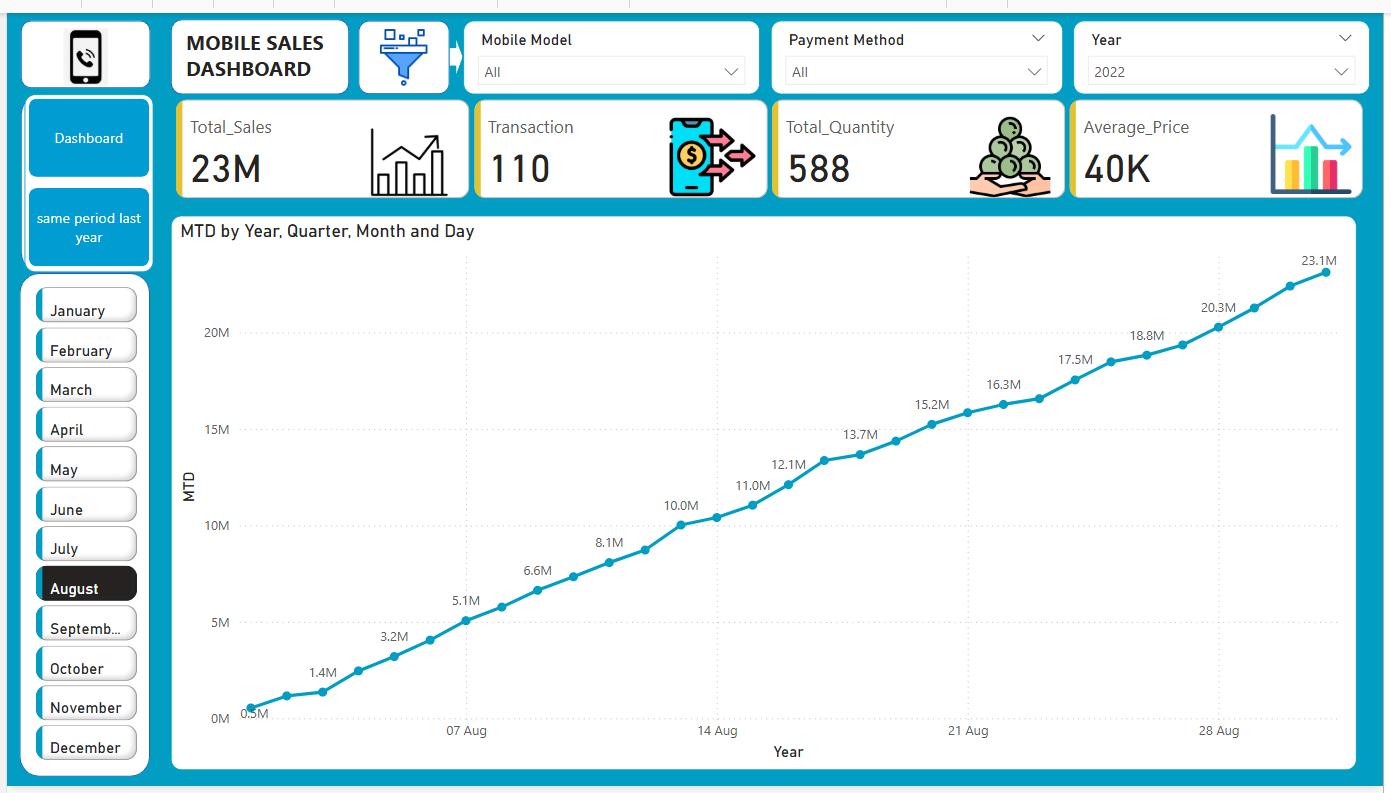

Layout of this report page (visuals, bound fields, positions):
{"tool":"powerbi","page":{"name":"MTD Report","canvas":[1280,720],"ordinal":2},"visuals":[{"type":"shape","box":[12.3,6.9,120.8,63.1],"z":0},{"type":"image","box":[37,9.6,71.4,63.1],"z":1000},{"type":"shape","box":[12.3,75.5,123.5,166],"z":2000},{"type":"cardVisual","fields":{"Data":["mobile_sales_dataset.Total_Sales","mobile_sales_dataset.Transaction","mobile_sales_dataset.Total_Quantity","mobile_sales_dataset.Average_Price"]},"box":[152.3,75.5,1115.6,102.9],"z":3000},{"type":"slicer","fields":{"Values":["mobile_sales_dataset.Mobile Model"]},"box":[424,6.9,275.8,68.6],"z":4000},{"type":"slicer","fields":{"Values":["mobile_sales_dataset.Payment Method"]},"box":[710.8,6.9,271.7,68.6],"z":5000},{"type":"slicer","fields":{"Values":["custom_calender.Date.Variation.Date Hierarchy.Year"]},"box":[992.1,6.9,275.8,68.6],"z":6000},{"type":"shape","box":[326.6,6.9,85.1,68.6],"z":7000},{"type":"image","box":[318.4,9.6,101.5,64.5],"z":8000},{"type":"shape","box":[411.7,24.7,12.3,32.9],"z":9000},{"type":"shape","box":[152.3,5.5,166,70],"z":10000},{"type":"shape","box":[11.4,241.4,121.4,468.6],"z":11000},{"type":"textbox","box":[161.9,9.6,145.5,64.5],"z":12000},{"type":"donutChart","fields":{"Category":["custom_calender.Date.Variation.Date Hierarchy.Year","custom_calender.Date.Variation.Date Hierarchy.Quarter","custom_calender.Date.Variation.Date Hierarchy.Month","custom_calender.Date.Variation.Date Hierarchy.Day"],"Y":["mobile_sales_dataset.MTD"]},"box":[152.3,188.4,1115.1,516.3],"z":14000},{"type":"pageNavigator","box":[15.7,75.7,120,165.7],"z":15000},{"type":"advancedSlicerVisual","fields":{"Values":["custom_calender.Date.Variation.Date Hierarchy.Month"]},"box":[22,249.7,104.3,455.6],"z":16000}]}

Visuals, with their boxes in screenshot pixels (x1, y1, x2, y2), scaled from the page's 1280x720 canvas onto the 1391x793 screenshot:
shape: (13,8,145,77)
image: (40,11,118,80)
shape: (13,83,148,266)
cardVisual - mobile_sales_dataset.Total_Sales x mobile_sales_dataset.Transaction: (166,83,1378,196)
slicer - mobile_sales_dataset.Mobile Model: (461,8,760,83)
slicer - mobile_sales_dataset.Payment Method: (772,8,1068,83)
slicer - custom_calender.Date.Variation.Date Hierarchy.Year: (1078,8,1378,83)
shape: (355,8,447,83)
image: (346,11,456,82)
shape: (447,27,461,63)
shape: (166,6,346,83)
shape: (12,266,144,782)
textbox: (176,11,334,82)
donutChart - custom_calender.Date.Variation.Date Hierarchy.Year x custom_calender.Date.Variation.Date Hierarchy.Quarter: (166,208,1377,776)
pageNavigator: (17,83,147,266)
advancedSlicerVisual - custom_calender.Date.Variation.Date Hierarchy.Month: (24,275,137,777)
